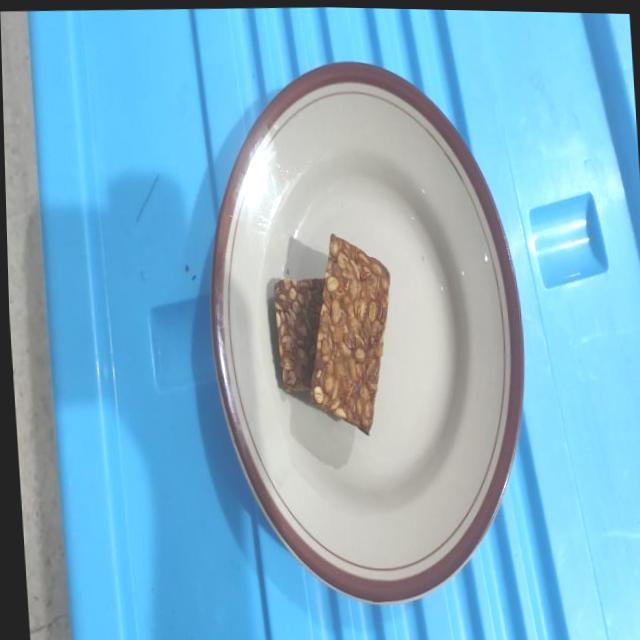tempe_goreng: (311, 233, 389, 434), (274, 278, 324, 392)
